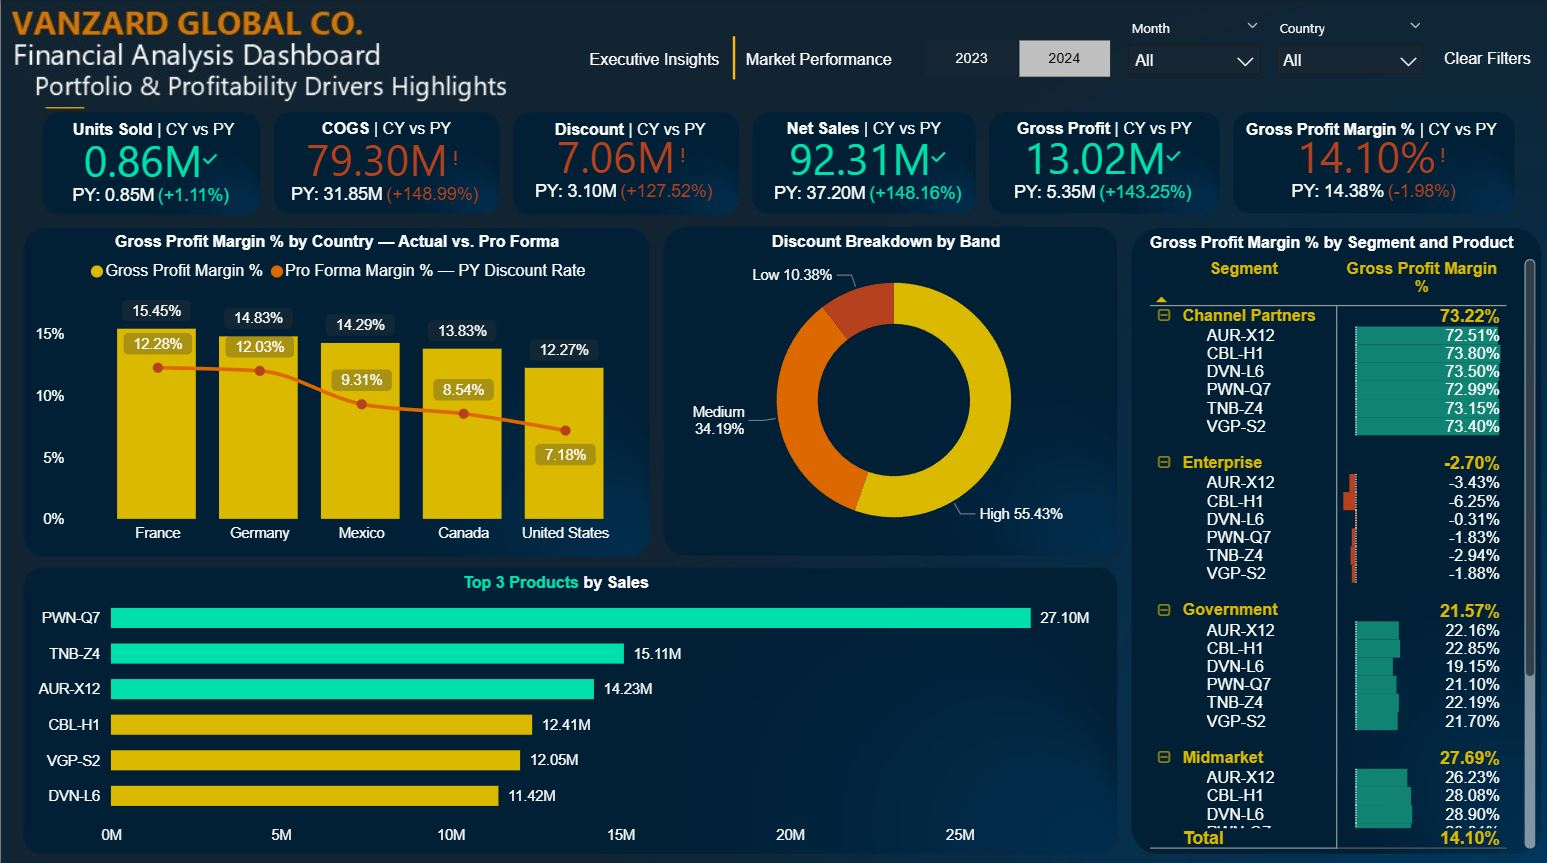

The page's visual inventory and layout, read from the dashboard file:
{"tool":"powerbi","page":{"name":"Portfolio & Profitability Drivers","canvas":[1280,720],"ordinal":2},"visuals":[{"type":"donutChart","fields":{"Category":["Financials.Discount Band"],"Y":["Analysis.Discount Offered"]},"box":[548.4,194.7,380.4,276.4],"z":0},{"type":"textbox","box":[632.8,189,210.9,33.8],"z":1000},{"type":"textbox","box":[377.8,471.1,196.4,32.9],"z":2000},{"type":"barChart","fields":{"Y":["Analysis.Sales Amount"],"Category":["Financials.Product"]},"box":[24,480,895.1,228.4],"z":3000},{"type":"pivotTable","fields":{"Rows":["Financials.Segment","Financials.Product"],"Values":["Analysis.Profit Margin"]},"box":[945.8,210.7,328.9,497.8],"z":4000},{"type":"textbox","box":[945.8,189.3,328.9,33.8],"z":5000},{"type":"textbox","box":[89.4,189,432.9,33.8],"z":6000},{"type":"lineClusteredColumnComboChart","fields":{"Y":["Analysis Measures.Profit Margin"],"Y2":["Analysis Measures.Profit Margin After Discount Impact"],"Category":["Financials.Country"]},"box":[22.2,206.2,517.3,253.3],"z":7000},{"type":"kpi","fields":{"TrendLine":["Date Table.Year"],"Indicator":["Analysis.Profit Margin"],"Goal":["Analysis Measures.KPI_PY Gross Profit Margin %"]},"box":[1019.6,103.8,232.9,68.4],"z":8000},{"type":"kpi","fields":{"TrendLine":["Date Table.Year"],"Indicator":["Analysis.Discount Offered"],"Goal":["Analysis Measures.KPI PY Discount"]},"box":[399.1,103.8,232.9,68.4],"z":9000},{"type":"textbox","box":[1025.8,95.8,222.2,30.2],"z":10000},{"type":"kpi","fields":{"TrendLine":["Date Table.Year"],"Indicator":["Analysis Measures.COGS"],"Goal":["Analysis Measures.KPI PY COGS"]},"box":[200.9,105.7,232.9,68.4],"z":11000},{"type":"textbox","box":[260.4,94.9,124.4,32.9],"z":12000},{"type":"cardVisual","fields":{"Data":["Analysis Measures.Period Note"]},"box":[232.9,144.9,168.9,48],"z":13000},{"type":"cardVisual","fields":{"Data":["Analysis Measures.Period Note"]},"box":[434.7,144,197.3,48],"z":14000},{"type":"cardVisual","fields":{"Data":["Analysis Measures.Period Note"]},"box":[1053,151.9,168.8,35.4],"z":15000},{"type":"kpi","fields":{"TrendLine":["Date Table.Year"],"Indicator":["Analysis.Orders"],"Goal":["Analysis Measures.KPI PY Units Sold"]},"box":[37.3,106.6,173.3,68.4],"z":16000},{"type":"textbox","box":[54.9,96.2,148.2,32.7],"z":17000},{"type":"kpi","fields":{"TrendLine":["Time Intelligence.Year"],"Indicator":["Analysis.Profit"],"Goal":["Analysis Measures.KPI_PY Gross Profit"]},"box":[795.4,103.9,232.9,68.4],"z":18000},{"type":"textbox","box":[835.6,94.9,155.6,32.9],"z":19000},{"type":"kpi","fields":{"Indicator":["Analysis.Sales Amount"],"TrendLine":["Date Table.Year"],"Goal":["Analysis Measures.KPI_PY Net Sales"]},"box":[601,104.8,232.9,68.4],"z":20000},{"type":"textbox","box":[645.3,94.9,149.3,32.9],"z":21000},{"type":"cardVisual","fields":{"Data":["Analysis Measures.Period Note"]},"box":[635.6,152.9,168.9,32],"z":22000},{"type":"cardVisual","fields":{"Data":["Analysis Measures.Period Note"]},"box":[828.4,152,168.9,32],"z":23000},{"type":"cardVisual","fields":{"Data":["Analysis Measures.Period Note"]},"box":[41.8,145.8,168.9,46.2],"z":24000},{"type":"slicer","fields":{"Values":["Financials.Country"]},"box":[1045.3,11.6,142.2,62.2],"z":25000},{"type":"slicer","fields":{"Values":["Time Intelligence.Year"]},"box":[739.6,28.4,201.8,43.6],"z":26000},{"type":"slicer","fields":{"Values":["Time Intelligence.Month"]},"box":[922.7,11.6,129.8,66.7],"z":27000},{"type":"actionButton","box":[1183.1,31.1,93.3,36.4],"z":28000},{"type":"actionButton","box":[612.4,28.4,128.9,45.3],"z":29000},{"type":"actionButton","box":[480.9,28.4,120,45.3],"z":30000},{"type":"shape","box":[588.4,31.1,36.4,36.4],"z":31000},{"type":"textbox","box":[453.1,96.2,160.3,32.9],"z":32000}]}

Visuals, with their boxes in screenshot pixels (x1, y1, x2, y2), scaled from the page's 1280x720 canvas onto the 1547x863 screenshot:
donutChart - Financials.Discount Band x Analysis.Discount Offered: bbox=[663, 233, 1123, 565]
textbox: bbox=[765, 227, 1020, 267]
textbox: bbox=[457, 565, 694, 604]
barChart - Analysis.Sales Amount x Financials.Product: bbox=[29, 575, 1111, 849]
pivotTable - Financials.Segment x Financials.Product: bbox=[1143, 253, 1541, 849]
textbox: bbox=[1143, 227, 1541, 267]
textbox: bbox=[108, 227, 631, 267]
lineClusteredColumnComboChart - Analysis Measures.Profit Margin x Analysis Measures.Profit Margin After Discount Impact: bbox=[27, 247, 652, 551]
kpi - Date Table.Year x Analysis.Profit Margin: bbox=[1232, 124, 1514, 206]
kpi - Date Table.Year x Analysis.Discount Offered: bbox=[482, 124, 764, 206]
textbox: bbox=[1240, 115, 1508, 151]
kpi - Date Table.Year x Analysis Measures.COGS: bbox=[243, 127, 524, 209]
textbox: bbox=[315, 114, 465, 153]
cardVisual - Analysis Measures.Period Note: bbox=[281, 174, 486, 231]
cardVisual - Analysis Measures.Period Note: bbox=[525, 173, 764, 230]
cardVisual - Analysis Measures.Period Note: bbox=[1273, 182, 1477, 224]
kpi - Date Table.Year x Analysis.Orders: bbox=[45, 128, 255, 210]
textbox: bbox=[66, 115, 245, 155]
kpi - Time Intelligence.Year x Analysis.Profit: bbox=[961, 125, 1243, 207]
textbox: bbox=[1010, 114, 1198, 153]
kpi - Analysis.Sales Amount x Date Table.Year: bbox=[726, 126, 1008, 208]
textbox: bbox=[780, 114, 960, 153]
cardVisual - Analysis Measures.Period Note: bbox=[768, 183, 972, 222]
cardVisual - Analysis Measures.Period Note: bbox=[1001, 182, 1205, 221]
cardVisual - Analysis Measures.Period Note: bbox=[51, 175, 255, 230]
slicer - Financials.Country: bbox=[1263, 14, 1435, 88]
slicer - Time Intelligence.Year: bbox=[894, 34, 1138, 86]
slicer - Time Intelligence.Month: bbox=[1115, 14, 1272, 94]
actionButton: bbox=[1430, 37, 1543, 81]
actionButton: bbox=[740, 34, 896, 88]
actionButton: bbox=[581, 34, 726, 88]
shape: bbox=[711, 37, 755, 81]
textbox: bbox=[548, 115, 741, 155]
